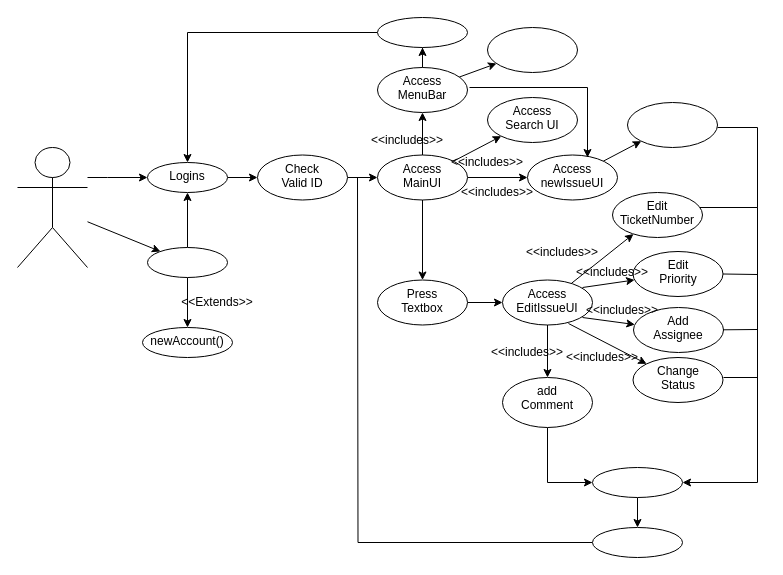
This 783x575 diagram has some shape labels left out. The shapes that lost their labels are listed below. From the top down, each one's box as (x1, y1, x2, y2) in pixels, then its label:
(376, 16, 468, 48): Logout
(486, 26, 578, 72): Show User List
(626, 102, 718, 148): Fill the empty Field
(16, 146, 88, 268): Actor
(146, 246, 228, 278): Registers
(592, 466, 682, 498): Save
(592, 526, 682, 558): Refresh Table
